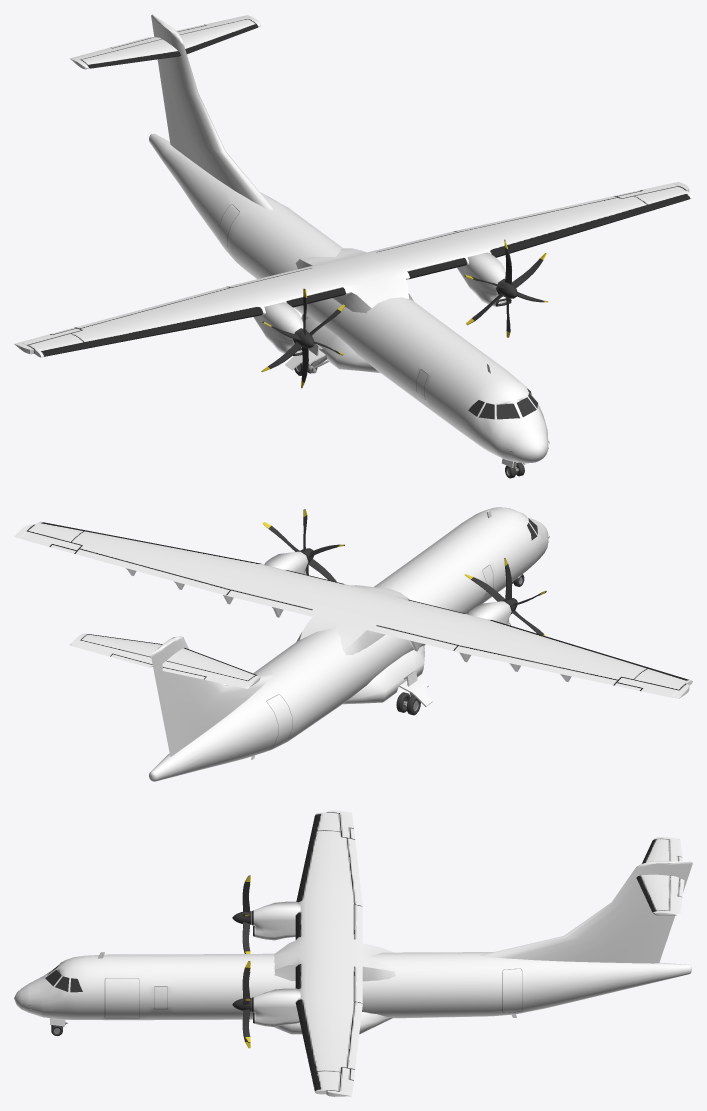
3 renders of one model, top to bottom at view 1: azimuth 30°, elevation 25°; view 2: azimuth 150°, elevation 25°; view 3: azimuth 270°, elevation 25°, orthographic. The views are drawn at different scales.
Visible parts, largest first — view 1: body; view 2: body, gear; view 3: body.
Part boxes in pixels (left/top/right/bottom): body: left=14, top=14, right=692, bottom=468; body: left=14, top=507, right=692, bottom=781; gear: left=396, top=574, right=524, bottom=715; body: left=14, top=810, right=692, bottom=1096.
Size of the model in its own units: 26.84 by 7.61 by 27.17.
10 materials, 1 textured.
